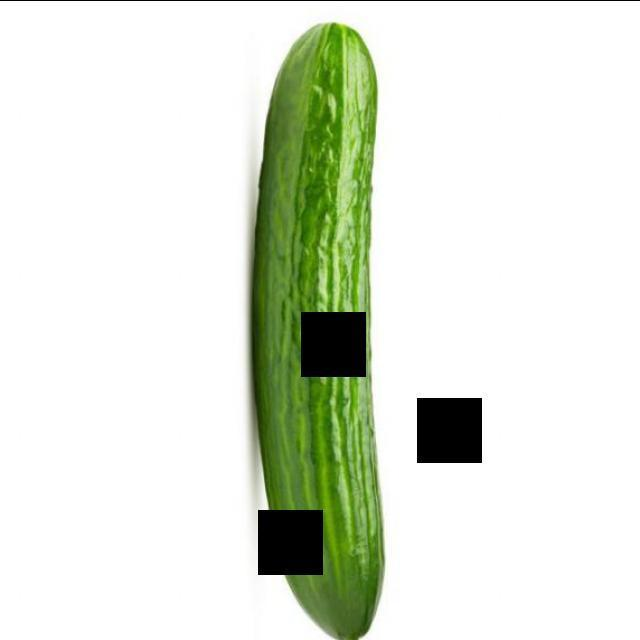cucumber: (247, 14, 387, 640)
